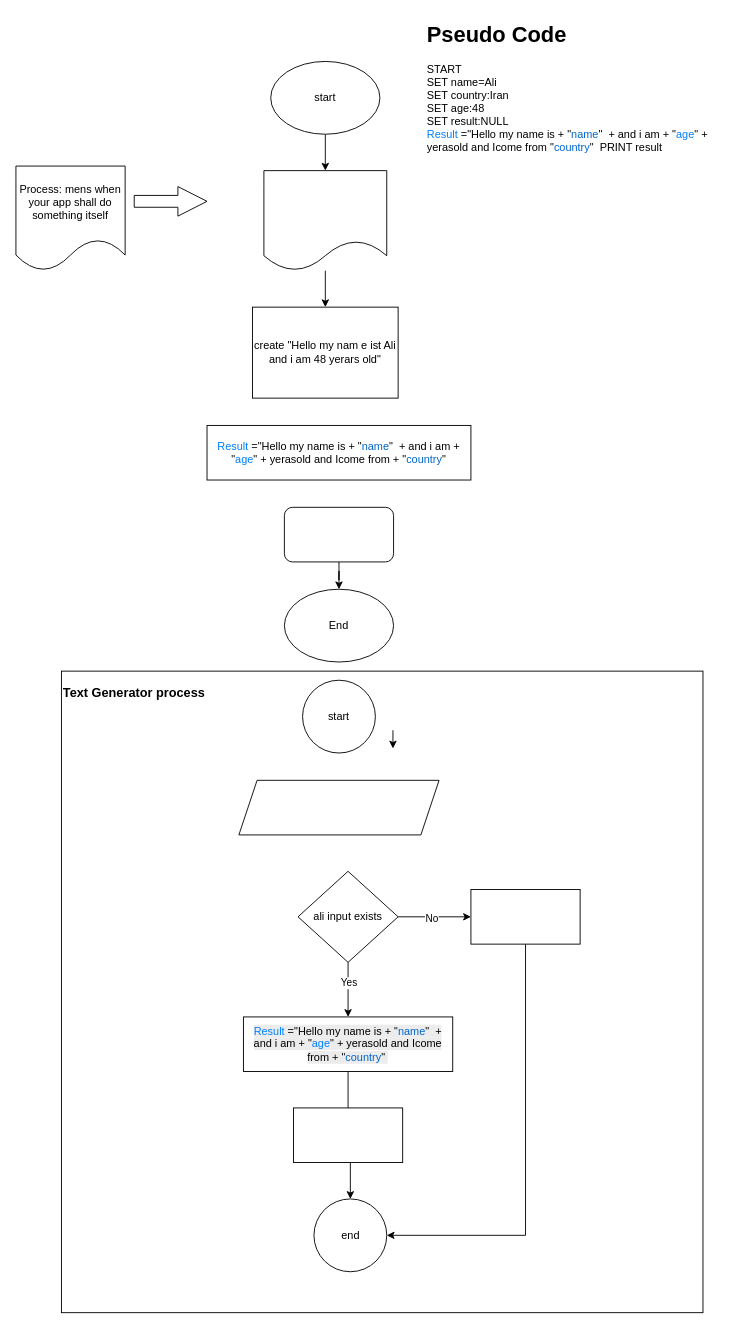
This 742x1329 diagram has some shape labels left out. Here are the shapes that lost their labels. From the top down, the centre of each, then its label:
pixel 325 220: defined variablen : name :"Ali" country :"iran" Age :"48" resul t:NULL
pixel 338 534: print:result
pixel 338 807: input: name, country , age
pixel 525 916: Print: Error
pixel 348 1135: Print result
